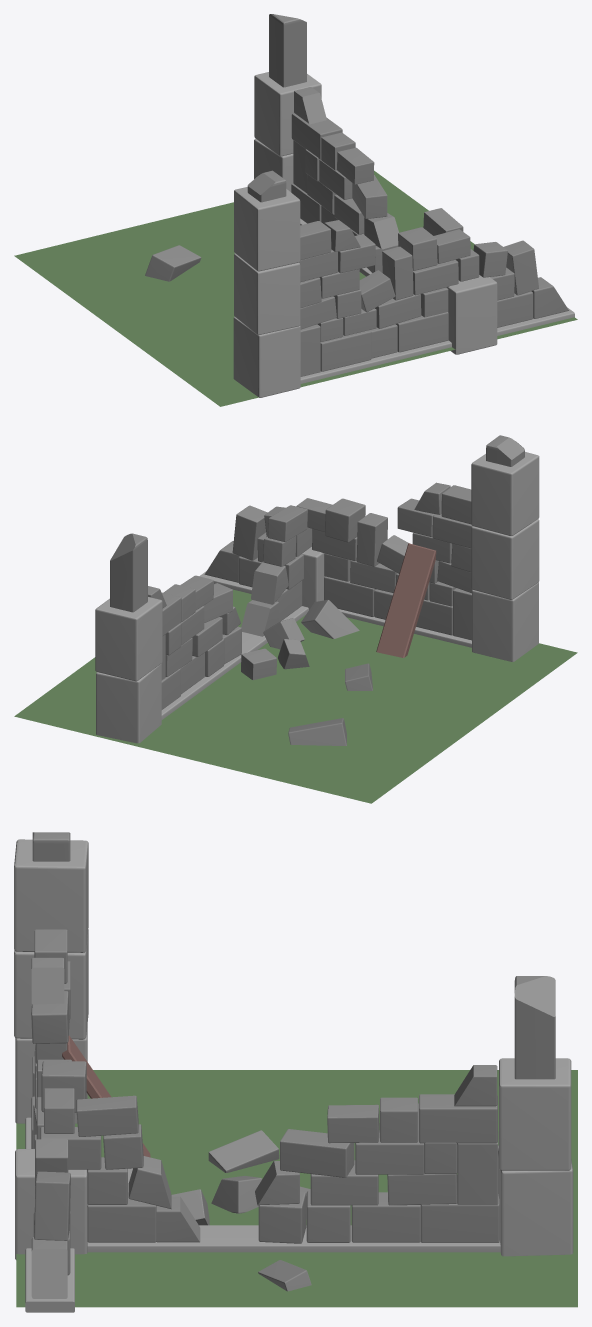
The model's file is AdventureForest_CrumbledWall_Section1.fbx.
3 views of the same model, one above another, from view 1: azimuth 30°, elevation 25°; view 2: azimuth 150°, elevation 25°; view 3: azimuth 270°, elevation 25° (orthographic). The views are drawn at different scales.
Visible parts, largest first — view 1: Wall_crumble_comp_tile_1; view 2: Wall_crumble_comp_tile_1; view 3: Wall_crumble_comp_tile_1.
Part boxes in pixels (x1,y1,x2,y2): Wall_crumble_comp_tile_1: (14, 14, 577, 406); Wall_crumble_comp_tile_1: (14, 435, 577, 803); Wall_crumble_comp_tile_1: (14, 832, 577, 1312).
Bounding box in the file's own units: 2 × 1.15 × 2.01.
